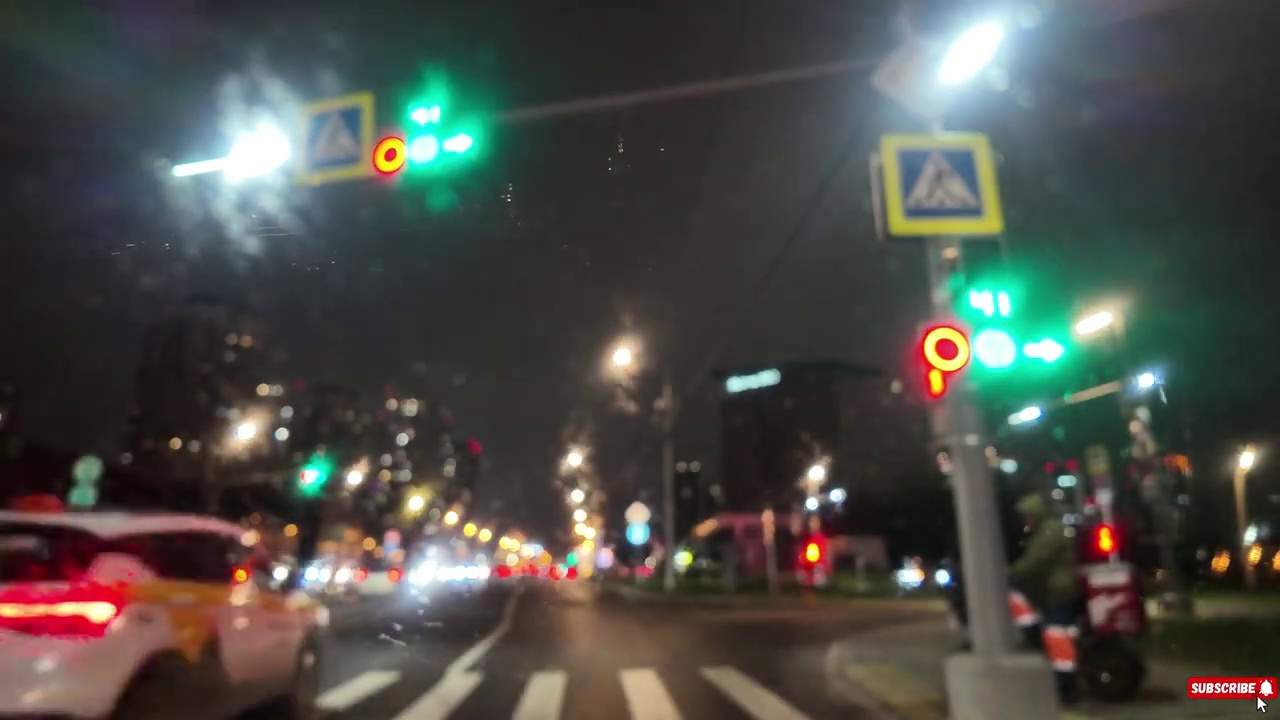acesa: (943, 25, 997, 78), (222, 407, 270, 455), (601, 334, 644, 383), (1081, 300, 1122, 340)
